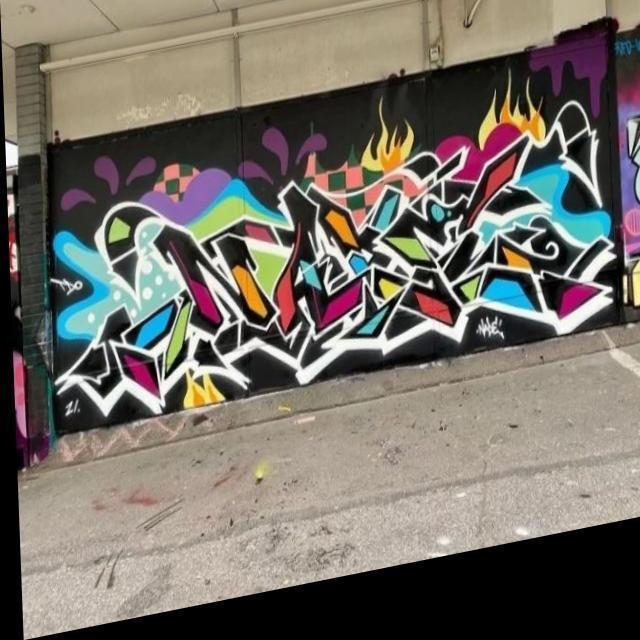nonspitting: (49, 35, 622, 420)
